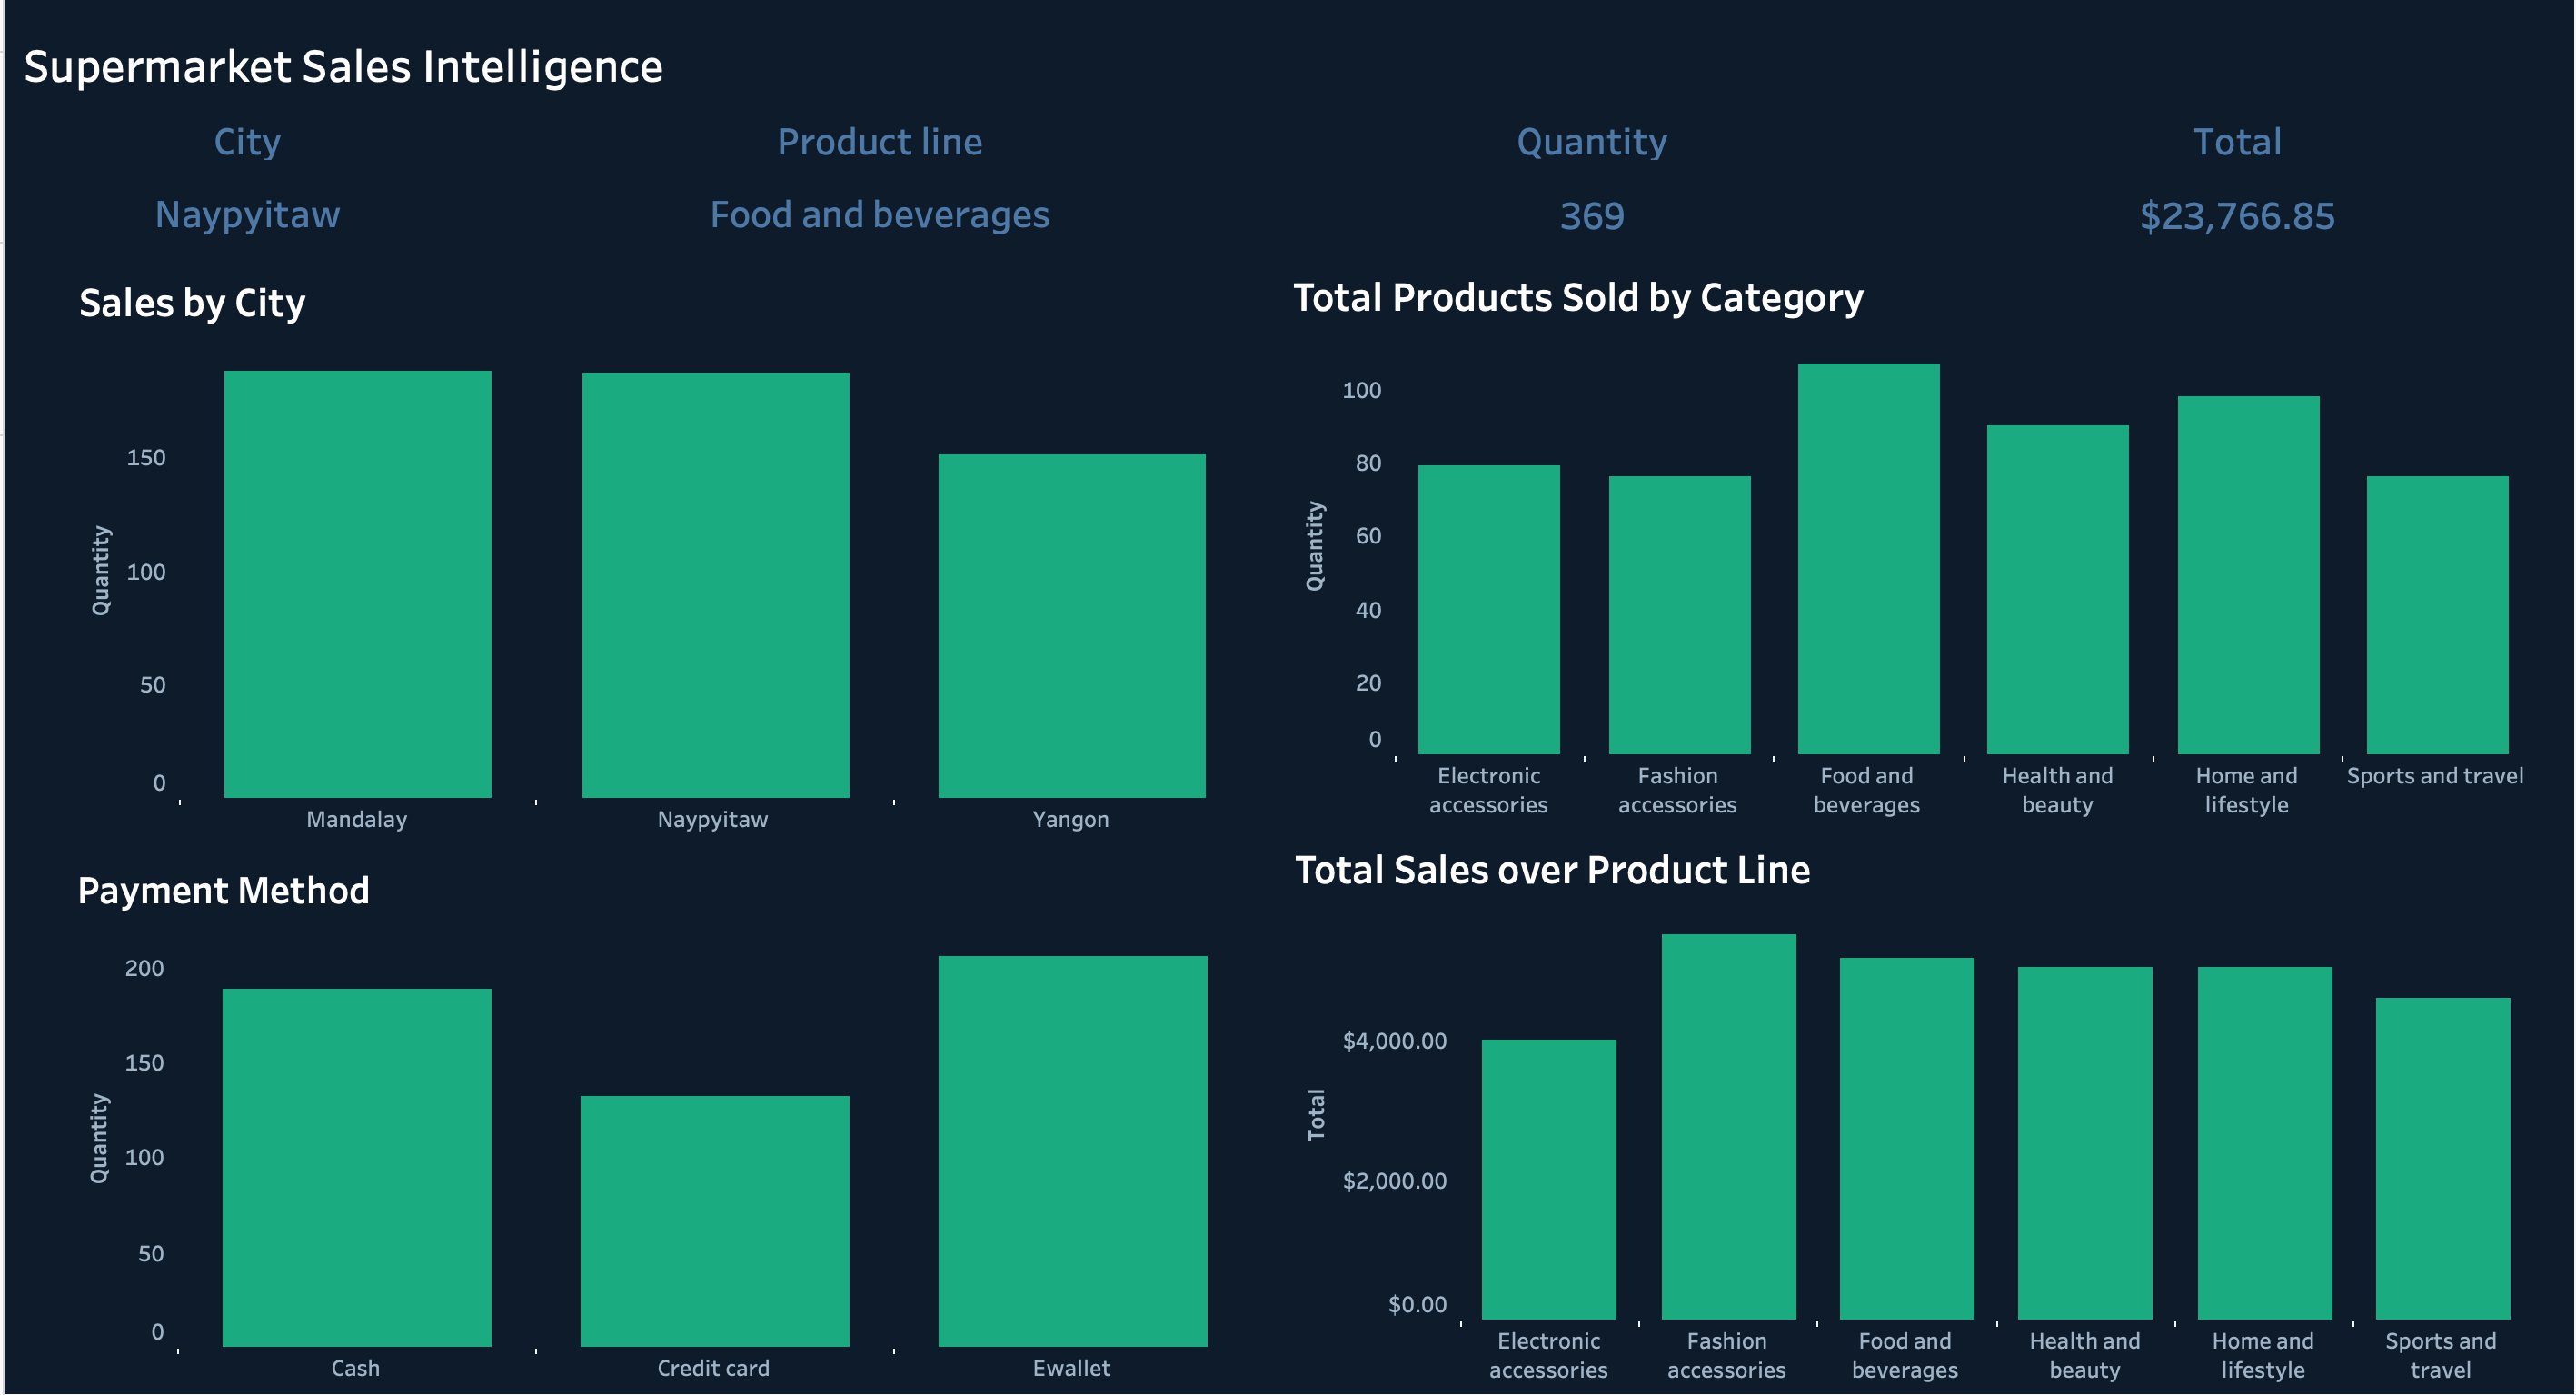

Layout of this report page (visuals, bound fields, positions):
{"tool":"tableau","page":{"name":"Dashboard 1","canvas":[1000,1000],"units":"permille","ordinal":0},"visuals":[{"type":"worksheet","title":"Summary 1","mark":"Automatic","rows":["City","Product line"],"box":[12.2,12.1,974.8,177.3]},{"type":"worksheet","title":"Total Products Sold by Category","mark":"Automatic","rows":["Quantity"],"cols":["Product line"],"box":[498.8,189.4,484.9,404.6]},{"type":"worksheet","title":"Sales by City","mark":"Automatic","rows":["Quantity"],"cols":["City"],"box":[26,192.4,458.9,407.6]},{"type":"worksheet","title":"Total Sales over Product Line","mark":"Automatic","rows":["Total"],"cols":["Product line"],"box":[499.6,598.5,484.1,400]},{"type":"worksheet","title":"Payment Method","mark":"Automatic","rows":["Quantity"],"cols":["Payment"],"box":[25.2,615.1,460.5,378.8]}]}

Visuals, with their boxes on the dashboard's canvas, which has no fixed pixel size, in thousandths of its width and height (x1, y1, x2, y2). These are canvas units, not pixel positions in the 2576x1395 screenshot, which may show the page scaled, cropped or inside an application window:
"Summary 1" worksheet: (x1=12, y1=12, x2=987, y2=189)
"Total Products Sold by Category" worksheet: (x1=499, y1=189, x2=984, y2=594)
"Sales by City" worksheet: (x1=26, y1=192, x2=485, y2=600)
"Total Sales over Product Line" worksheet: (x1=500, y1=598, x2=984, y2=998)
"Payment Method" worksheet: (x1=25, y1=615, x2=486, y2=994)
